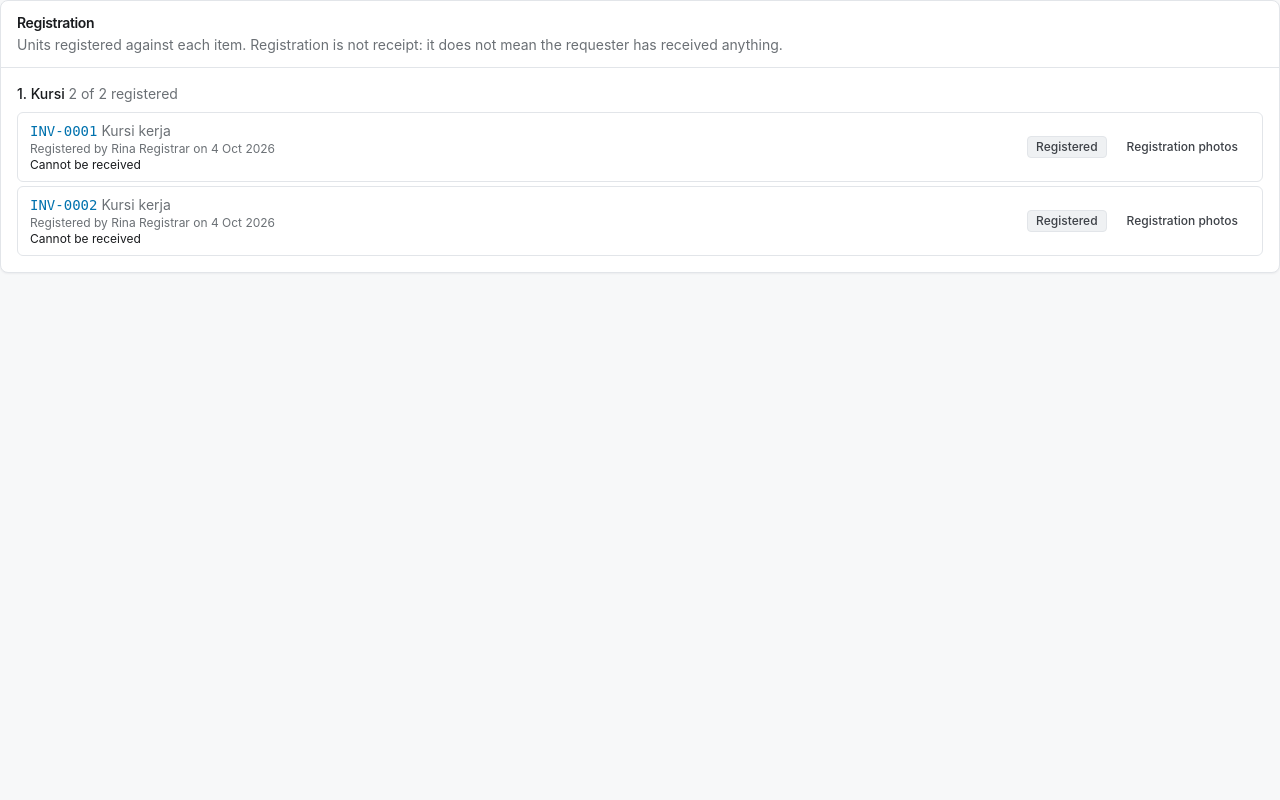
the dialog › withholds the asset section when the asset is not wholly the caller’s (P3)
This screenshot has width=1280, height=800.
What coordinates should you click on to do the following:
click the button "Registration photos" in the row of "INV-0001"
I would click on:
 (1182, 147)
Its box is [1115,131,1250,163].
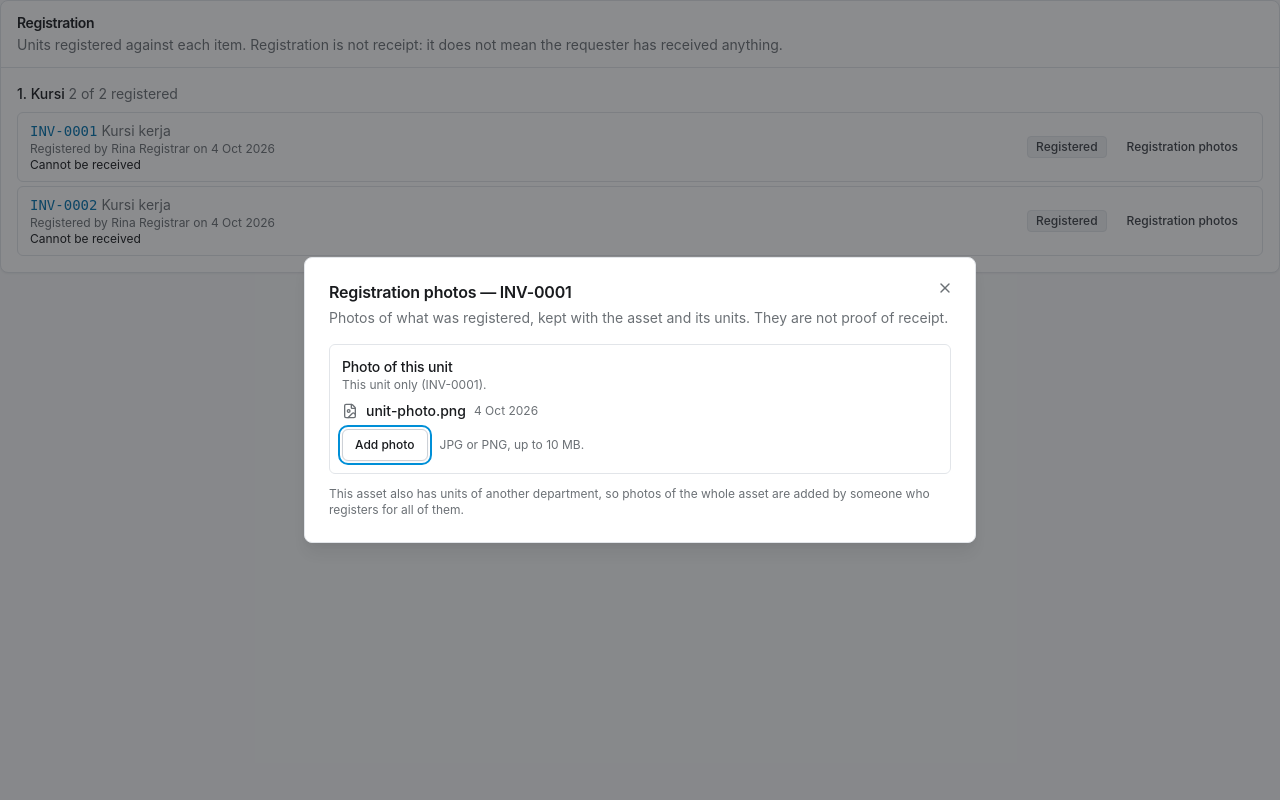
Result: the text with test id "registration-photos-no-asset" is shown at [329,486,951,518]
Result: the element with test id "registration-photos-unit" is shown at [329,344,951,474]
